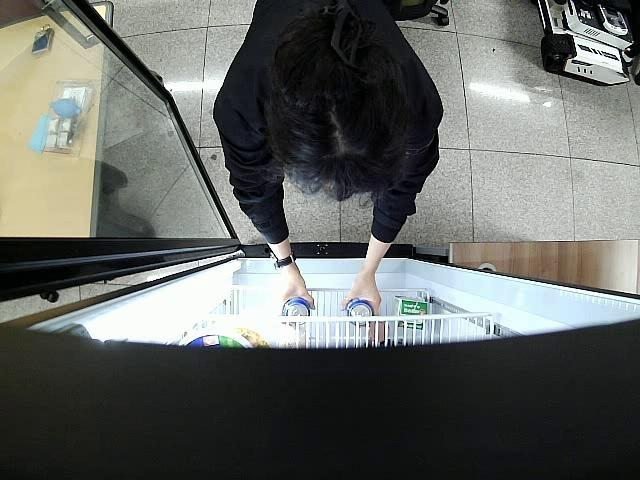13_pocariSweat: (280, 296, 311, 328), (344, 298, 374, 328)
